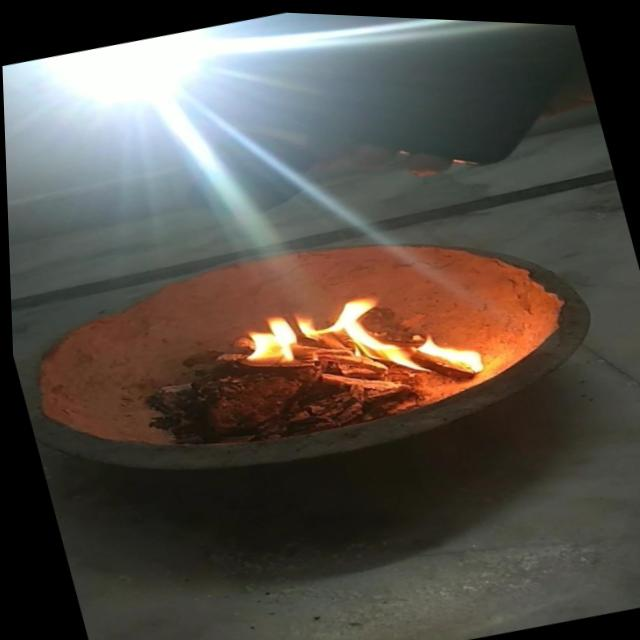fire: (226, 281, 411, 409), (403, 316, 496, 385)
